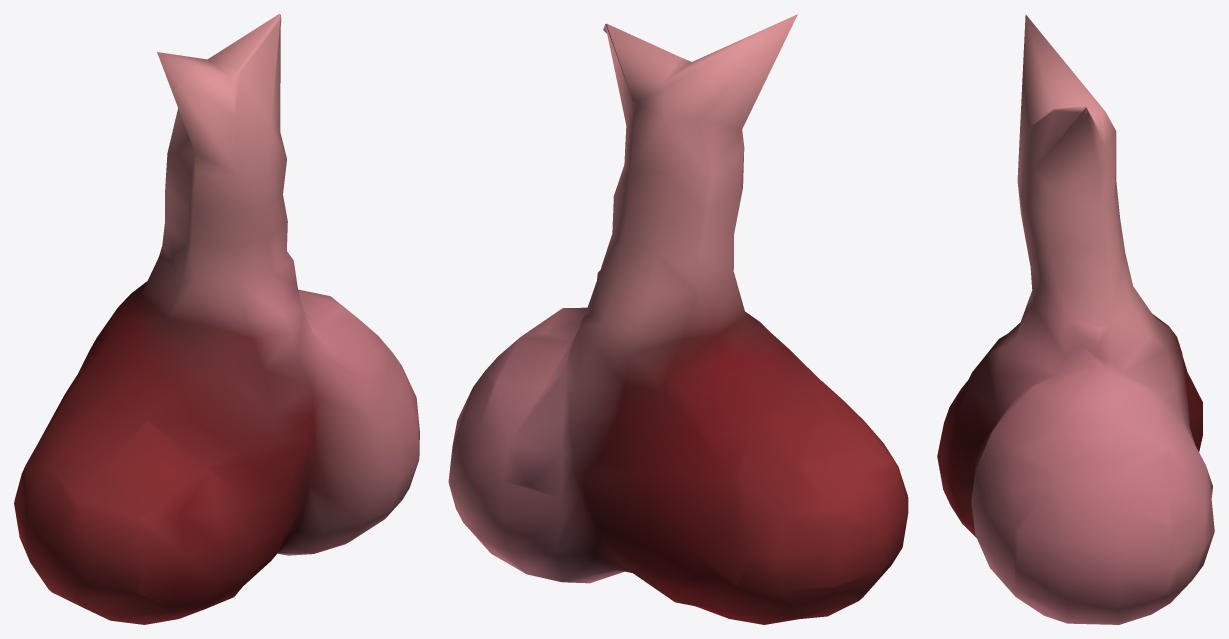
The model's file is hipofisis.glb.
3 views of the same model, side by side, from view 1: azimuth 30°, elevation 25°; view 2: azimuth 150°, elevation 25°; view 3: azimuth 270°, elevation 25° (orthographic). The views are drawn at different scales.
Visible parts, largest first — view 1: MetaBola.004; view 2: MetaBola.004; view 3: MetaBola.004.
Part boxes in pixels (box(x1,y1,x2,y2)): MetaBola.004: box(14, 14, 419, 624); MetaBola.004: box(448, 14, 908, 624); MetaBola.004: box(937, 14, 1214, 624).
Size of the model in its own units: 4.63 by 6.39 by 3.01.
